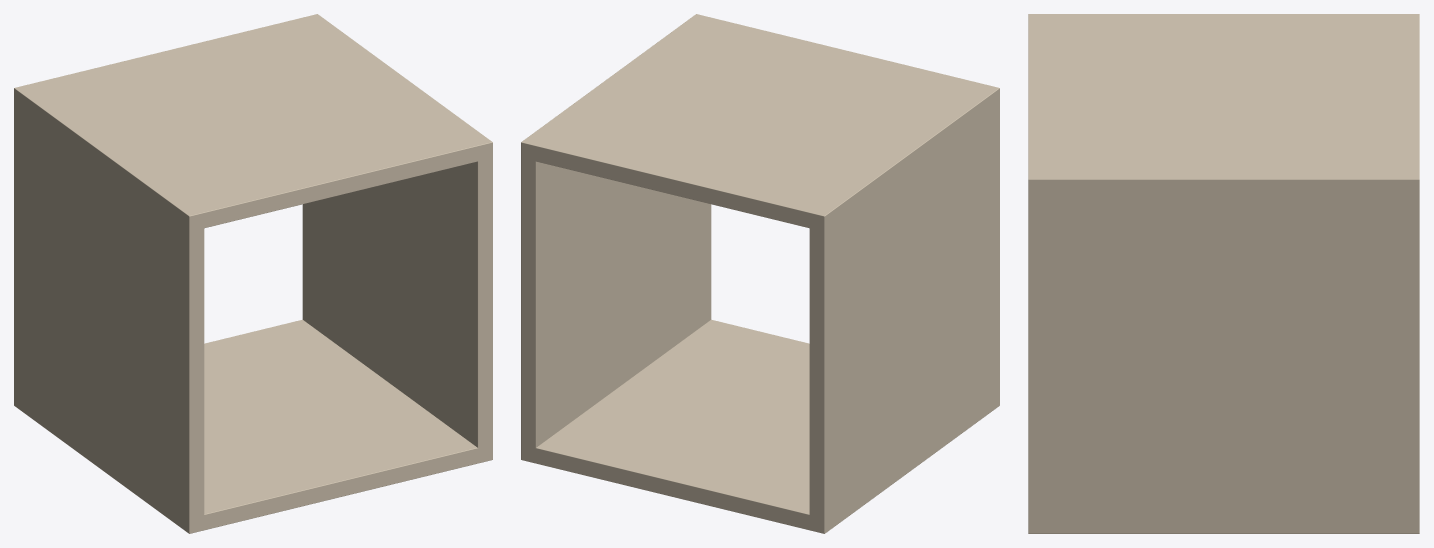
Rendered from MOD-1X1-A-O-AR.glb.
3 views of the same model, side by side, from view 1: azimuth 30°, elevation 25°; view 2: azimuth 150°, elevation 25°; view 3: azimuth 270°, elevation 25° (orthographic). The views are drawn at different scales.
Size of the model in its own units: 360 by 360 by 360.
